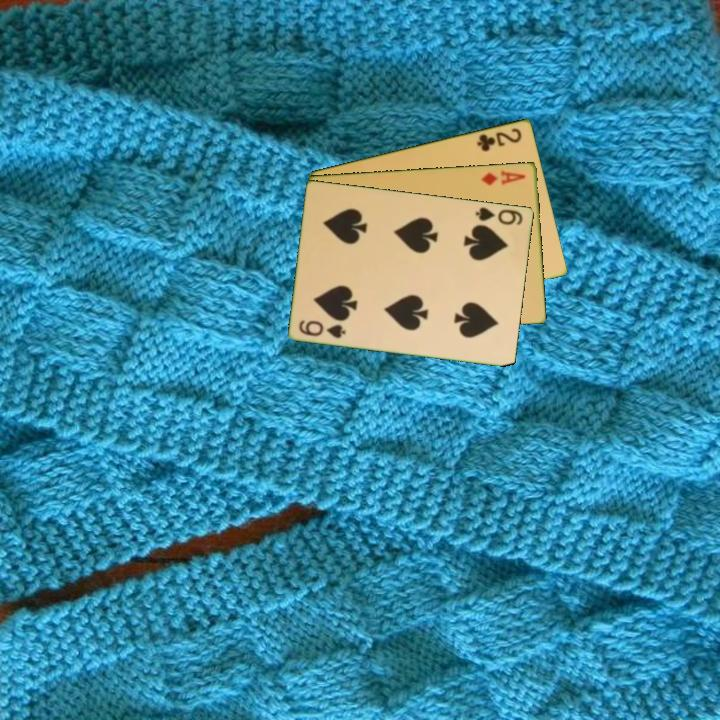2c: (474, 124, 525, 154)
6s: (296, 316, 349, 341), (472, 203, 526, 227)
Ad: (478, 166, 528, 188)
